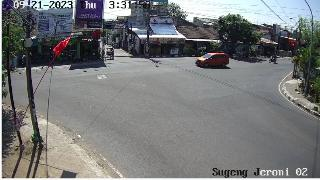mobil: (196, 50, 230, 70)
motor: (270, 55, 280, 68)
